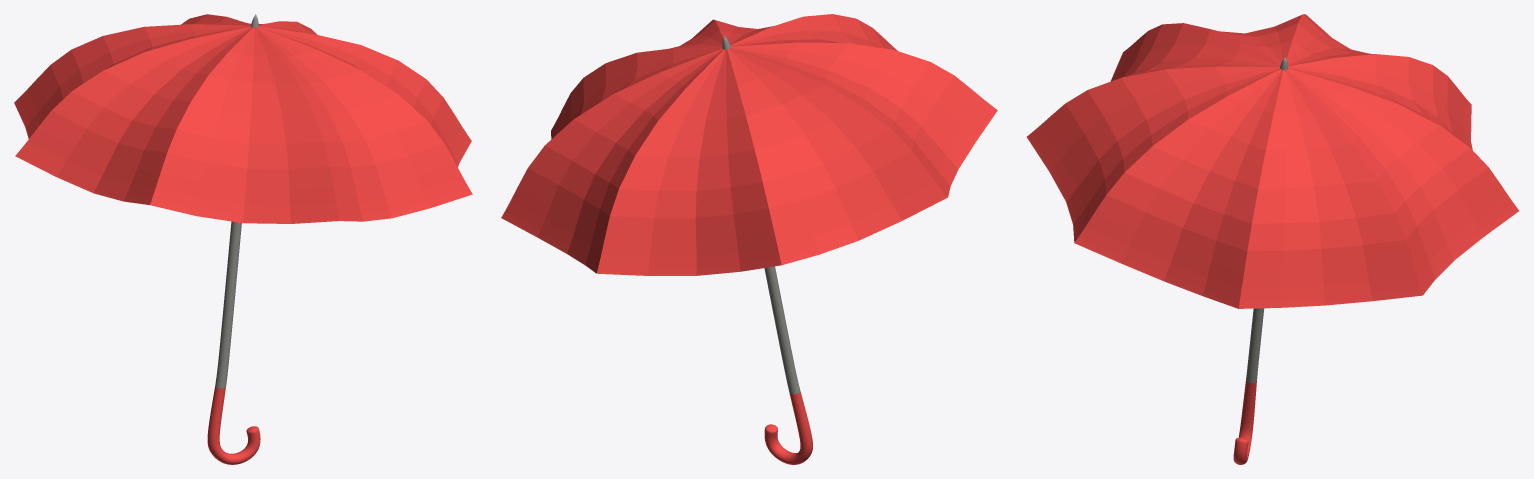
The model's file is umbrella.glb.
The picture shows the model from 3 angles, left to right: view 1: azimuth 30°, elevation 25°; view 2: azimuth 150°, elevation 25°; view 3: azimuth 270°, elevation 25°; orthographic projection. The views are drawn at different scales.
Parts seen in each view (by area): view 1: umbrella.006; view 2: umbrella.006; view 3: umbrella.006.
Boxes of the visible parts, left/top/right/bottom form: umbrella.006: left=14, top=14, right=472, bottom=464; umbrella.006: left=501, top=14, right=997, bottom=464; umbrella.006: left=1027, top=14, right=1518, bottom=464.
Bounding box in the file's own units: 216 × 207 × 217.
